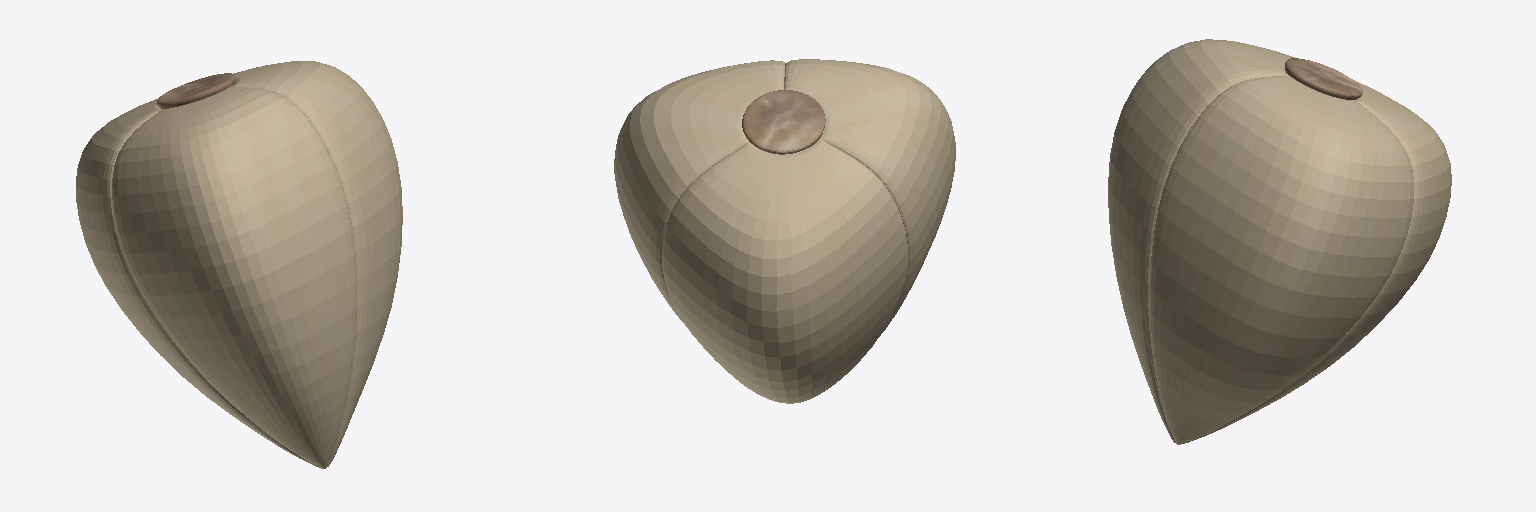
3 views of the same model, side by side, from view 1: azimuth 30°, elevation 25°; view 2: azimuth 150°, elevation 25°; view 3: azimuth 270°, elevation 25° (orthographic).
Visible parts, largest first — view 1: GrainBuckwheat008; view 2: GrainBuckwheat008; view 3: GrainBuckwheat008.
Boxes of the visible parts, x1,y1,x2,y2 form: GrainBuckwheat008: [76, 61, 402, 468]; GrainBuckwheat008: [614, 59, 955, 403]; GrainBuckwheat008: [1108, 39, 1451, 444].
Size of the model in its own units: 0.0253 by 0.0309 by 0.0267.
Materials: 1 (1 with a texture image).